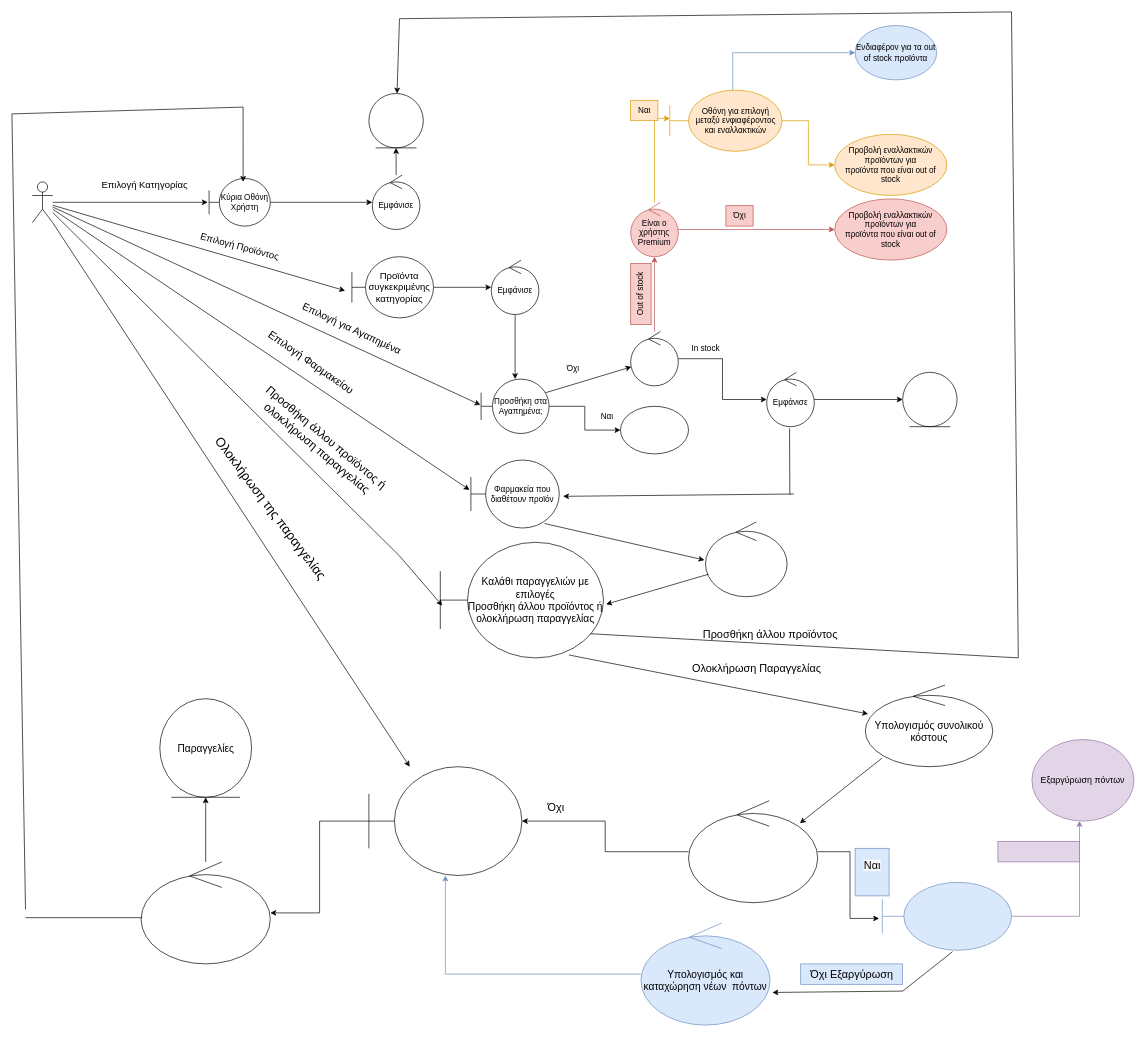
This 1146x1037 diagram has some shape labels left out. The centre of each missing label's shape, as x and y in pixels:
"O Πελάτης είναι Premium;" belongs at (x=753, y=851).
"Έλεγχος Stock" belongs at (x=654, y=358).
"Αγαπημένα Προϊόντα" belongs at (x=654, y=430).
"Εξαργύρωση" belongs at (x=1038, y=851).
"Καταχώηρηση Παραγγελίας" belongs at (x=205, y=912).
"Οθόνη Ολοκλήρωσης της Παραγγελίας" belongs at (x=445, y=821).
"πελάτης" belongs at (x=42, y=202).
"Προσθήκη στο καλάθι" belongs at (x=746, y=559).
"προϊοντα" belongs at (x=395, y=120).
"Φαρμακεία" belongs at (x=929, y=399).
"Όθονη Εξαργύρωσης Πόντων" belongs at (x=947, y=916).
